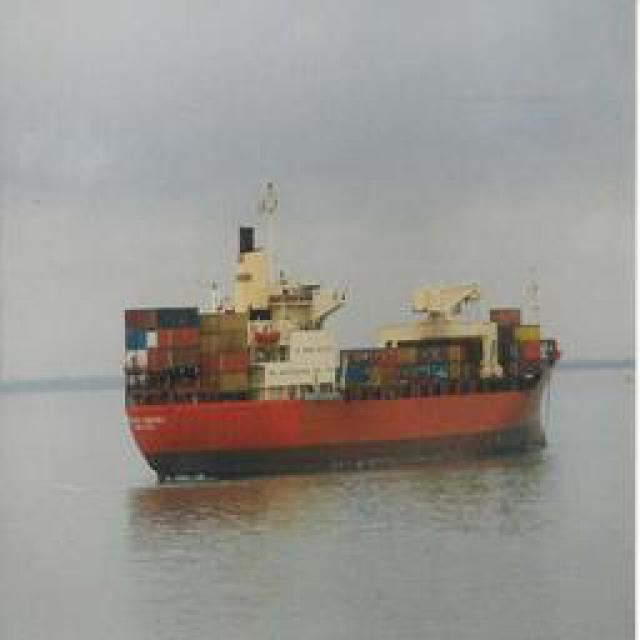Ship: (120, 229, 565, 479)
